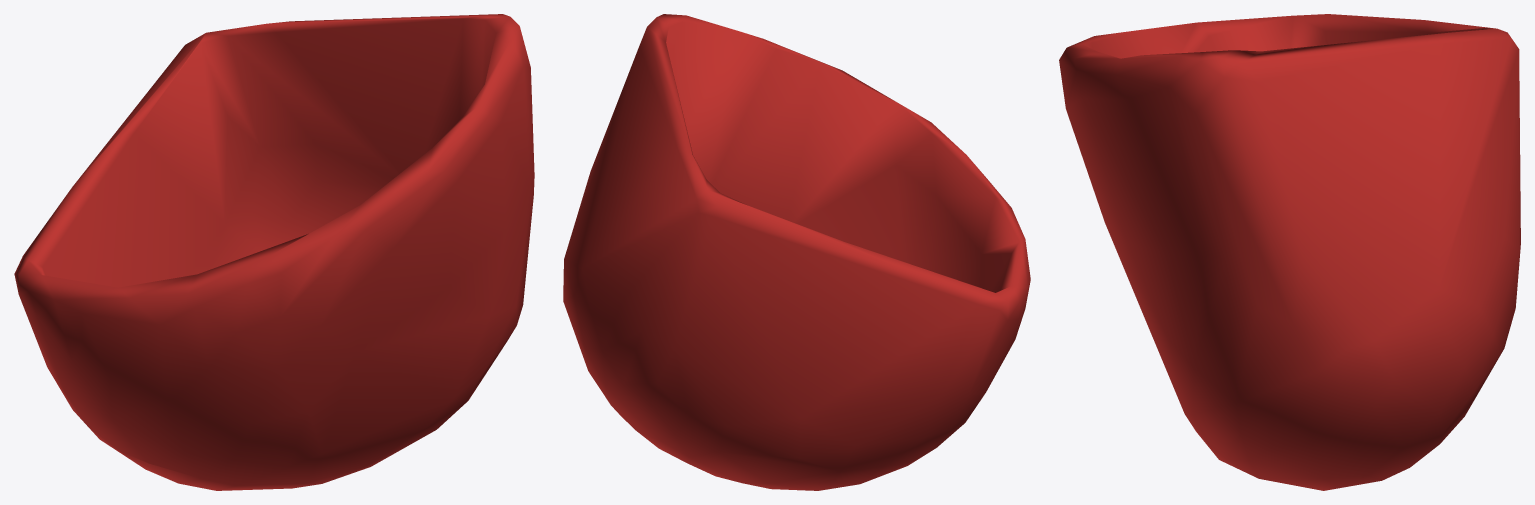
Rendered from circulatorio-right-coronary-leaflet.glb.
3 views of the same model, side by side, from view 1: azimuth 30°, elevation 25°; view 2: azimuth 150°, elevation 25°; view 3: azimuth 270°, elevation 25° (orthographic). The views are drawn at different scales.
Parts seen in each view (by area): view 1: Right coronary leaflet; view 2: Right coronary leaflet; view 3: Right coronary leaflet.
Boxes of the visible parts, x1,y1,x2,y2 form: Right coronary leaflet: [14, 14, 534, 490]; Right coronary leaflet: [563, 14, 1030, 490]; Right coronary leaflet: [1059, 14, 1520, 490].
Size of the model in its own units: 0.0193 by 0.0167 by 0.0139.
